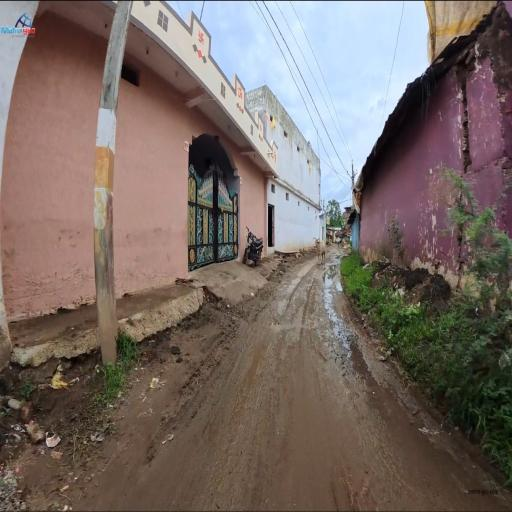pothole: (339, 327, 361, 395)
